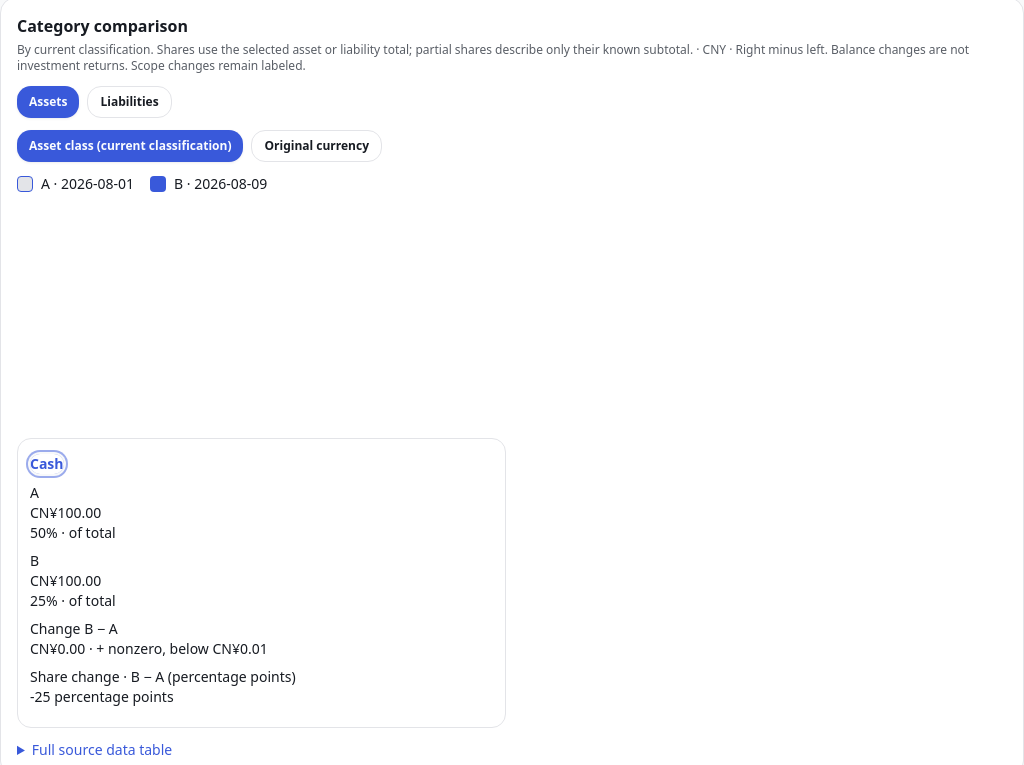
Test: renders backend monetary and percentage-point deltas and keyboard navigation (en)
The image size is (1024, 765).
Press Enter
Click the heading "Full source data table" at [102, 750], box x1=32 y1=740 x2=172 y2=759
(page scrolled)
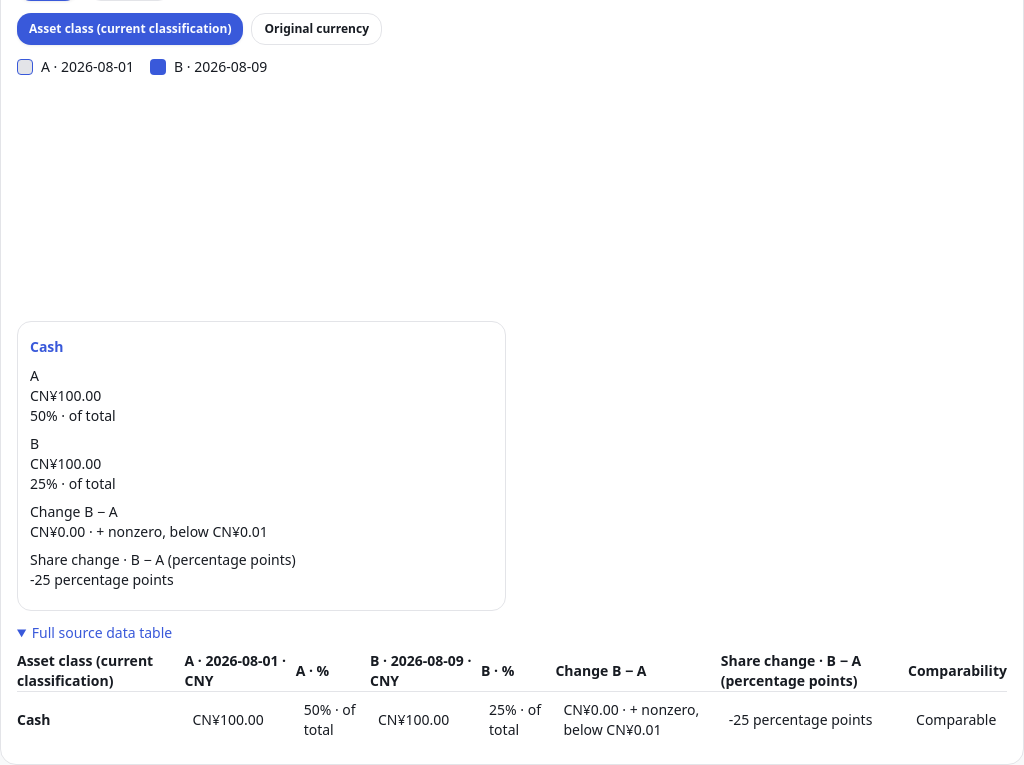
Expected: the number of cells is 7
